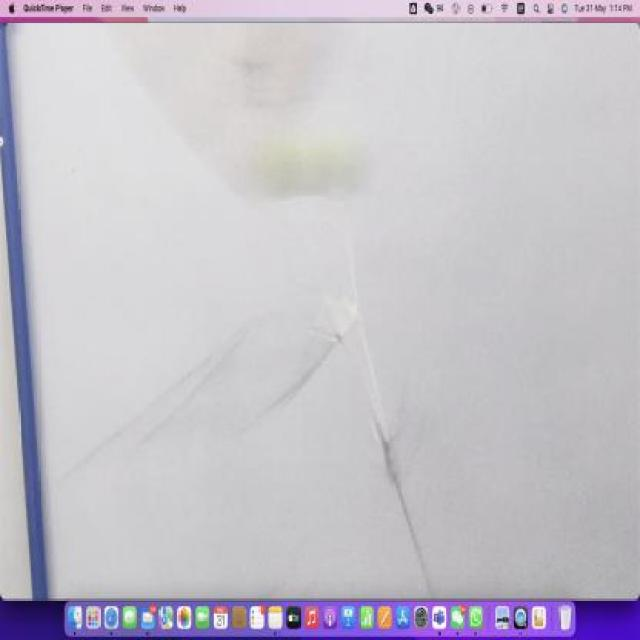baseball: (248, 143, 368, 205)
